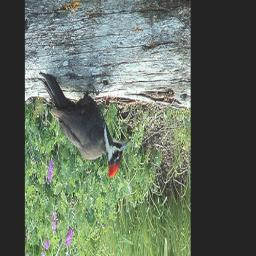Woodpecker: (39, 75, 130, 179)
